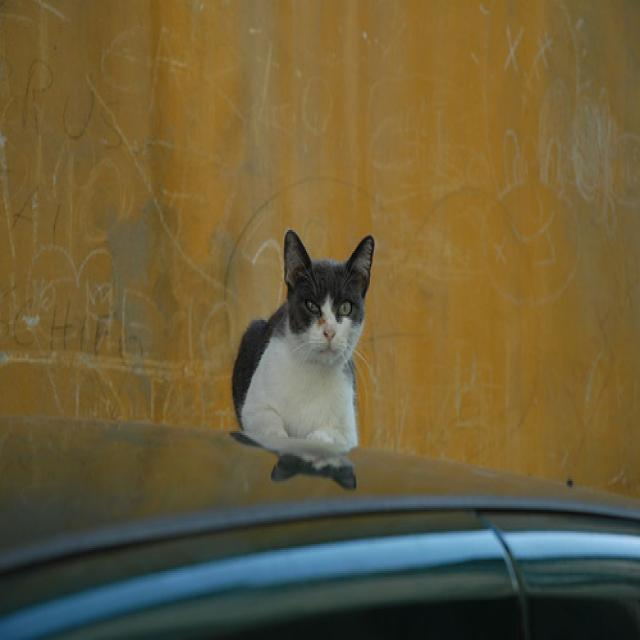left eye: (337, 297, 353, 318)
